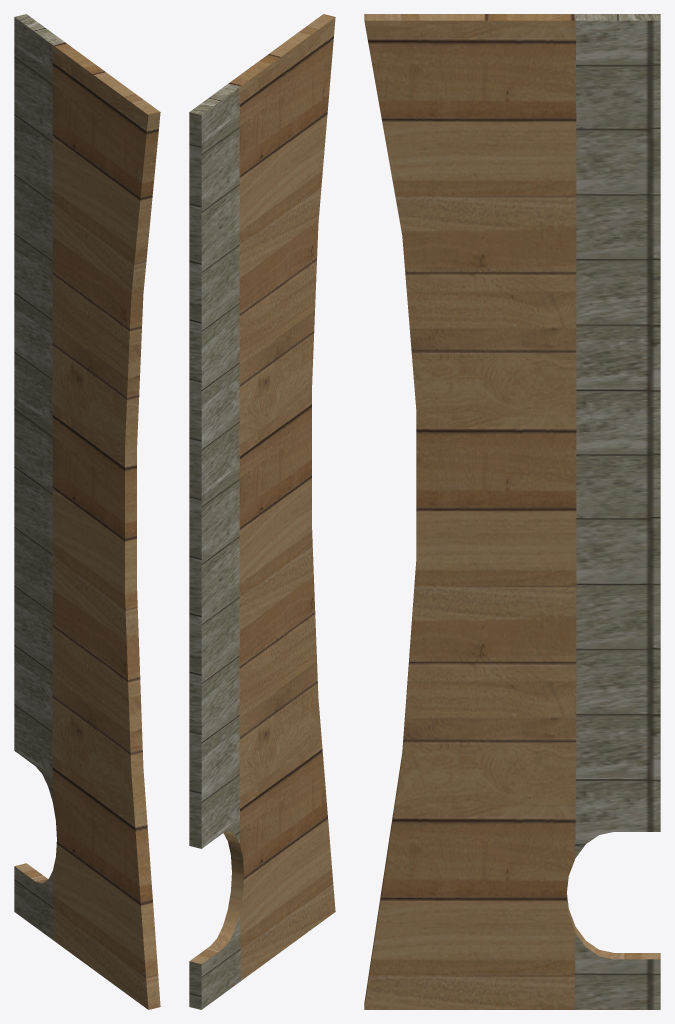
File: nt_concrete_fence_320_tall_dog_02_LOD1.obj
The picture shows the model from 3 angles, left to right: view 1: azimuth 30°, elevation 25°; view 2: azimuth 150°, elevation 25°; view 3: azimuth 270°, elevation 25°; orthographic projection. The views are drawn at different scales.
Parts seen in each view (by area): view 1: nt_wood_fence, nt_2020_concrete_pattern_02; view 2: nt_wood_fence, nt_2020_concrete_pattern_02; view 3: nt_wood_fence, nt_2020_concrete_pattern_02.
Part boxes in pixels (left/top/right/bottom): nt_wood_fence: left=14, top=42, right=160, bottom=1009; nt_2020_concrete_pattern_02: left=14, top=14, right=64, bottom=940; nt_wood_fence: left=190, top=14, right=335, bottom=980; nt_2020_concrete_pattern_02: left=189, top=84, right=240, bottom=1009; nt_wood_fence: left=364, top=14, right=660, bottom=1009; nt_2020_concrete_pattern_02: left=574, top=14, right=660, bottom=1009.
Size of the model in its own units: 10.57 by 743 by 202.
Materials: 2 (2 with a texture image).
